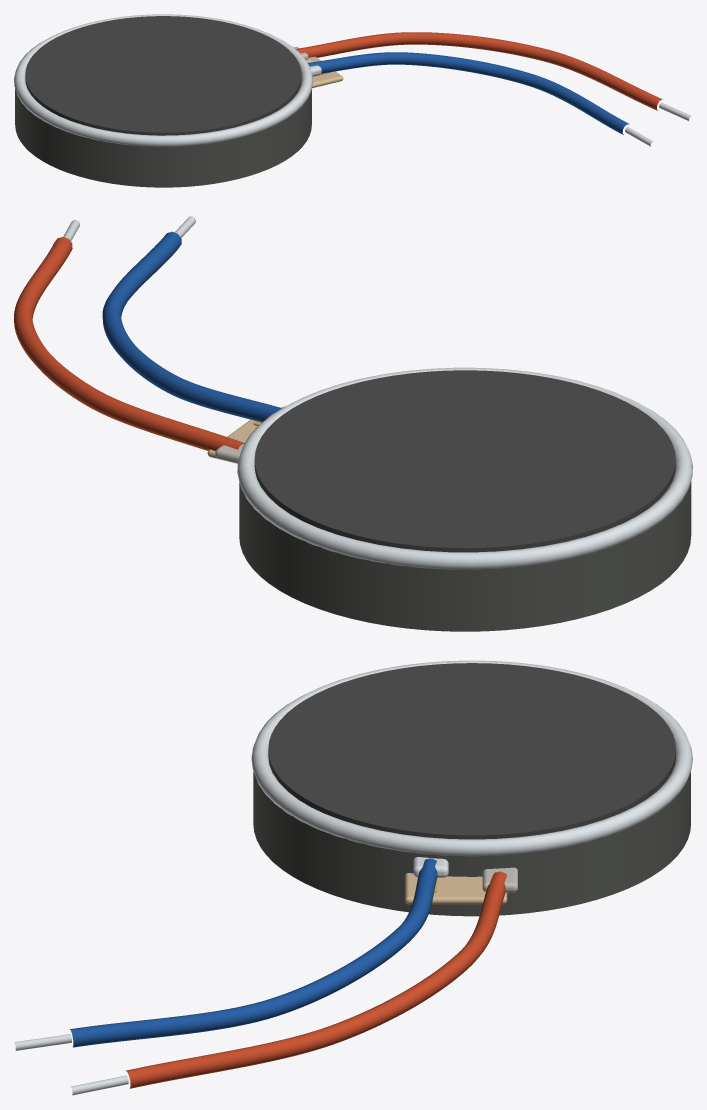
Rendered from components-23.glb.
3 renders of one model, top to bottom at view 1: azimuth 30°, elevation 25°; view 2: azimuth 150°, elevation 25°; view 3: azimuth 270°, elevation 25°, orthographic. The views are drawn at different scales.
Visible parts, largest first — view 1: disc, leads, flex; view 2: disc, leads; view 3: disc, leads, flex, bond.
Boxes of the visible parts, x1=… form: disc: x1=14, y1=14, x2=312, y2=187; leads: x1=295, y1=32, x2=691, y2=146; flex: x1=306, y1=56, x2=343, y2=88; disc: x1=237, y1=367, x2=692, y2=631; leads: x1=14, y1=216, x2=281, y2=451; disc: x1=251, y1=660, x2=692, y2=916; leads: x1=14, y1=858, x2=506, y2=1095; flex: x1=405, y1=873, x2=507, y2=904; bond: x1=413, y1=857, x2=517, y2=892.
Bounding box in the file's own units: 2.38 × 0.2195 × 1.81.
